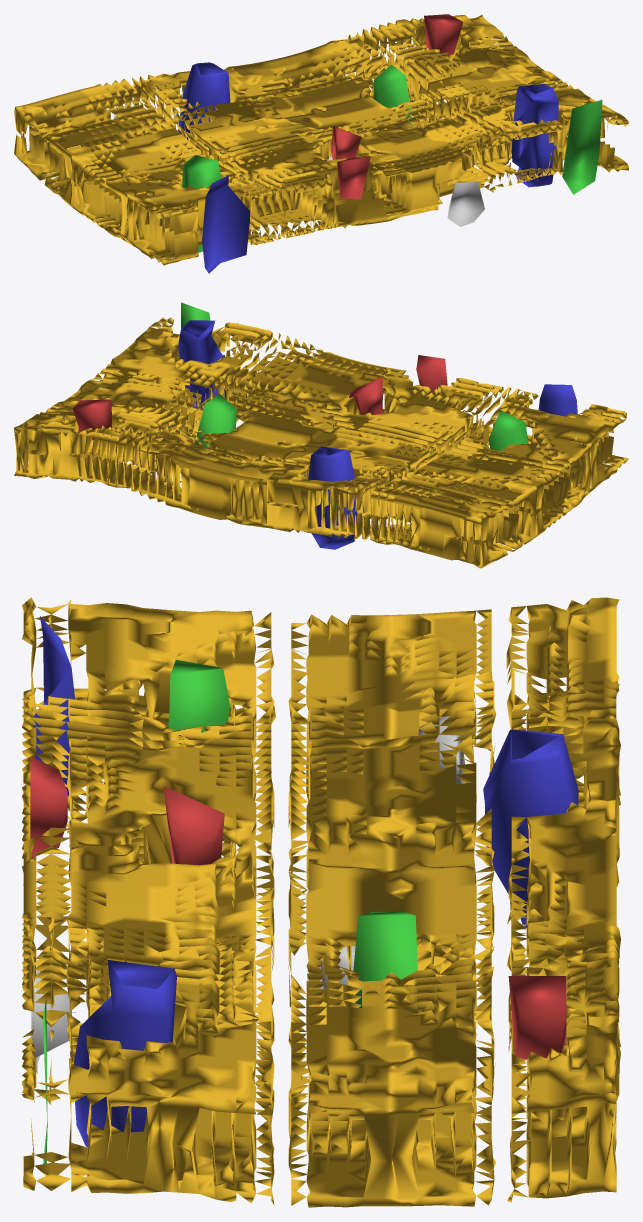
The model's file is plasma-membrane-lite.glb.
3 views of the same model, one above another, from view 1: azimuth 30°, elevation 25°; view 2: azimuth 150°, elevation 25°; view 3: azimuth 270°, elevation 25° (orthographic). The views are drawn at different scales.
Parts seen in each view (by area): view 1: Icosphere.001_0, Torus.000_0, Sphere.002_0, Sphere.004_0, Sphere.006_0; view 2: Icosphere.001_0, Torus.000_0, Sphere.004_0, Sphere.002_0; view 3: Icosphere.001_0, Torus.000_0, Sphere.004_0, Sphere.002_0, Sphere.006_0.
Part boxes in pixels (left/top/right/bottom): Icosphere.001_0: left=14, top=15, right=628, bottom=265; Torus.000_0: left=178, top=62, right=558, bottom=273; Sphere.002_0: left=182, top=64, right=602, bottom=252; Sphere.004_0: left=331, top=14, right=463, bottom=199; Sphere.006_0: left=326, top=157, right=484, bottom=226; Icosphere.001_0: left=14, top=317, right=628, bottom=568; Torus.000_0: left=178, top=320, right=577, bottom=549; Sphere.004_0: left=73, top=355, right=447, bottom=440; Sphere.002_0: left=181, top=302, right=528, bottom=451; Icosphere.001_0: left=22, top=597, right=620, bottom=1207; Torus.000_0: left=33, top=616, right=578, bottom=1147; Sphere.004_0: left=30, top=756, right=566, bottom=1059; Sphere.002_0: left=42, top=659, right=417, bottom=1164; Sphere.006_0: left=31, top=716, right=464, bottom=1073.
Bounding box in the file's own units: 72.24 × 15.98 × 39.94.
